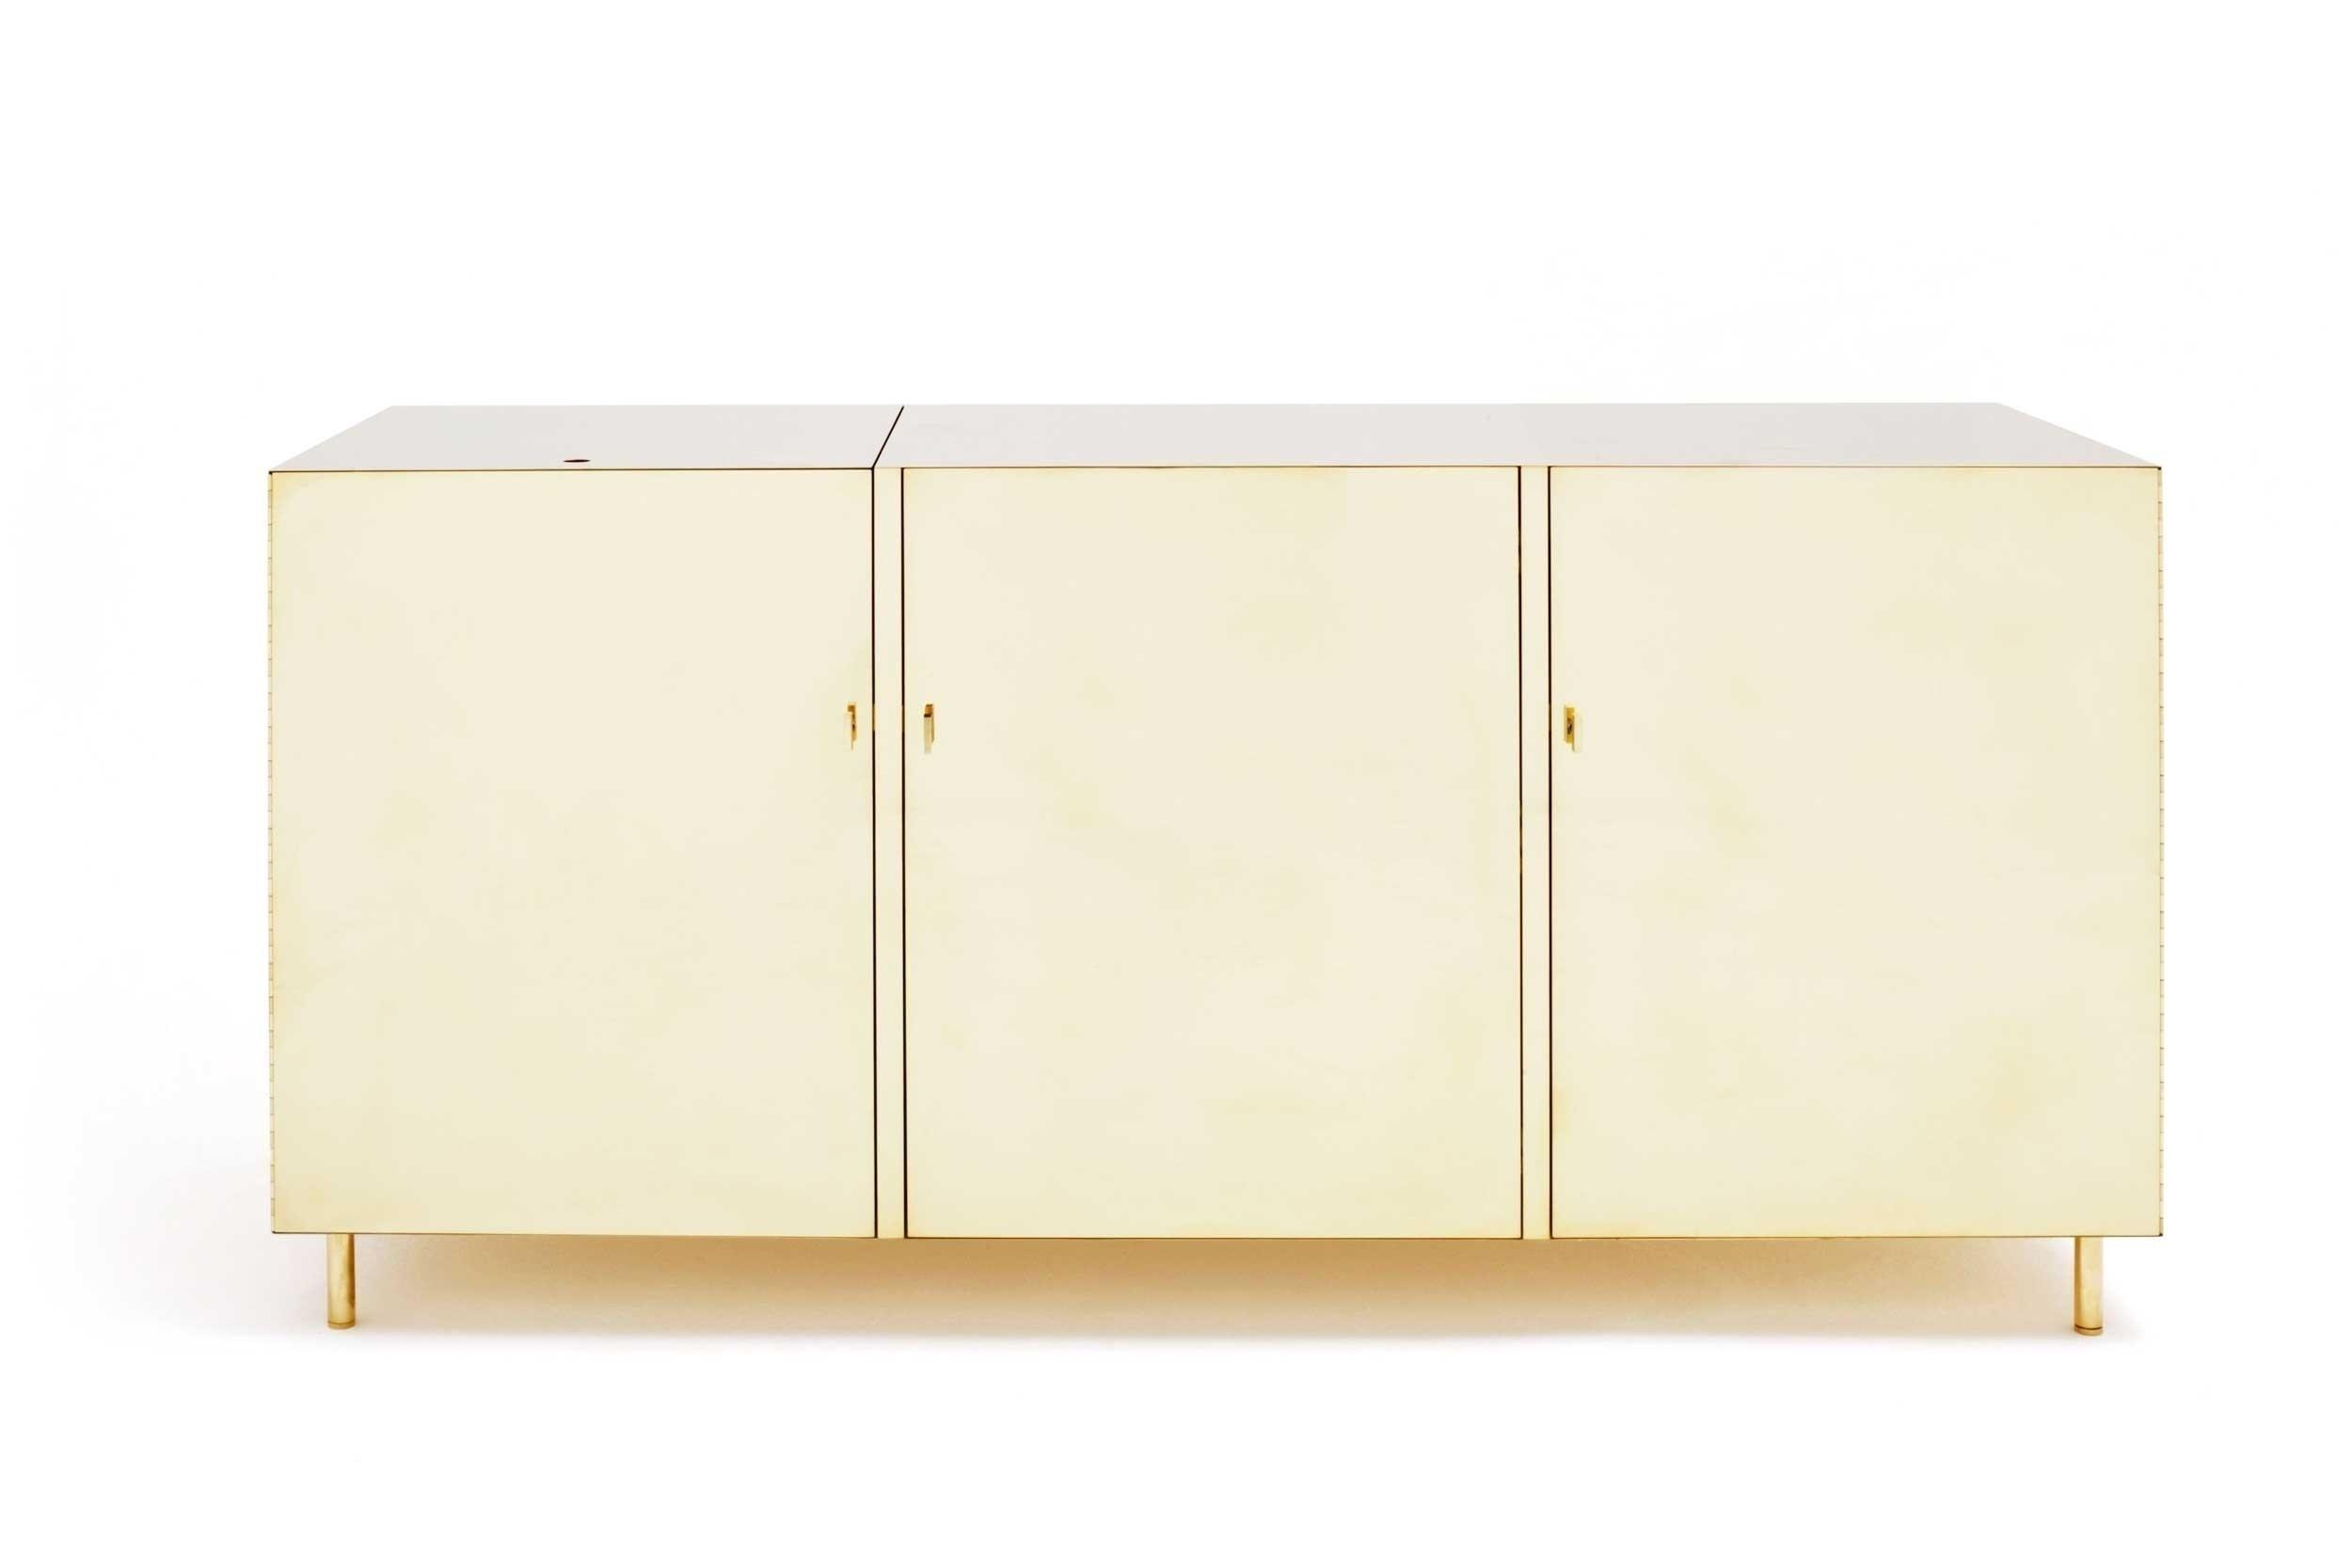cabinet_door: (903, 492, 1519, 1244), (1542, 492, 2144, 1241), (275, 497, 870, 1235)
handle: (1554, 691, 1592, 754), (913, 696, 943, 754), (833, 698, 866, 749)
